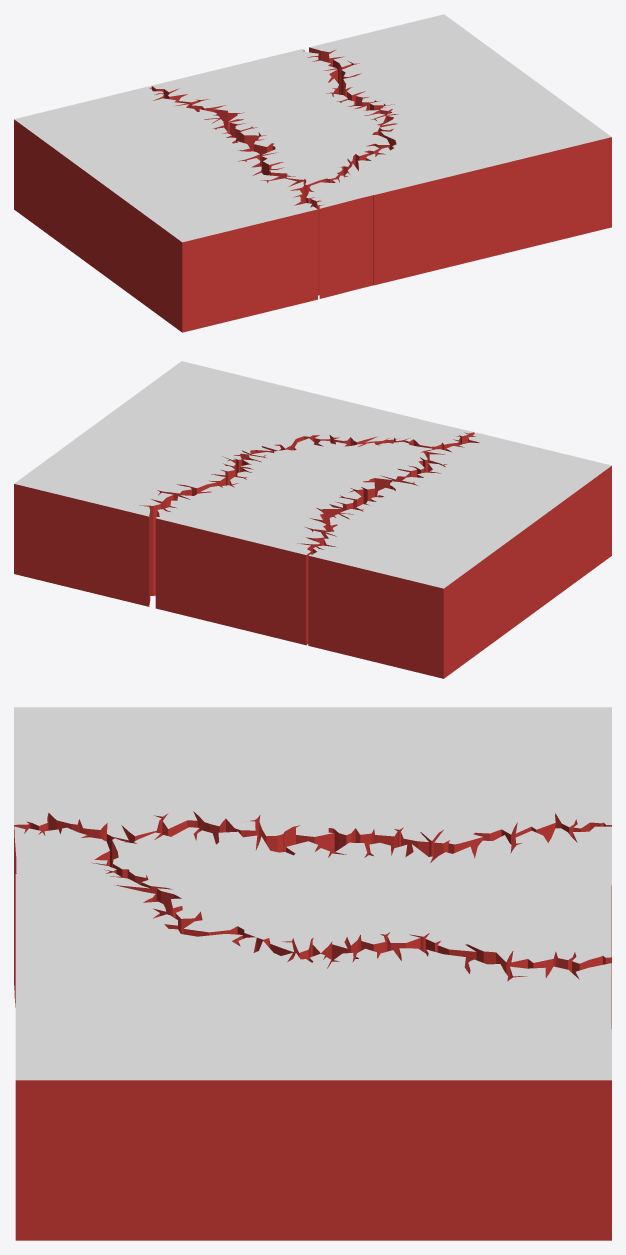
Rendered from untitlesddssdd 2.fbx.
The picture shows the model from 3 angles, top to bottom: view 1: azimuth 30°, elevation 25°; view 2: azimuth 150°, elevation 25°; view 3: azimuth 270°, elevation 25°; orthographic projection. The views are drawn at different scales.
Visible parts, largest first — view 1: Plane.010, Plane.009, Plane.008; view 2: Plane.010, Plane.009, Plane.008; view 3: Plane.009, Plane.010, Plane.008.
Boxes of the visible parts, box(x1,y1,x2,y2) form: Plane.010: box(14, 86, 317, 332); Plane.009: box(309, 14, 611, 285); Plane.008: box(151, 49, 389, 298); Plane.010: box(308, 432, 611, 678); Plane.009: box(14, 361, 419, 606); Plane.008: box(155, 419, 474, 645); Plane.009: box(15, 860, 611, 1240); Plane.010: box(14, 707, 611, 984); Plane.008: box(14, 826, 611, 1028).
Size of the model in its own units: 8263 by 1657 by 5600.
